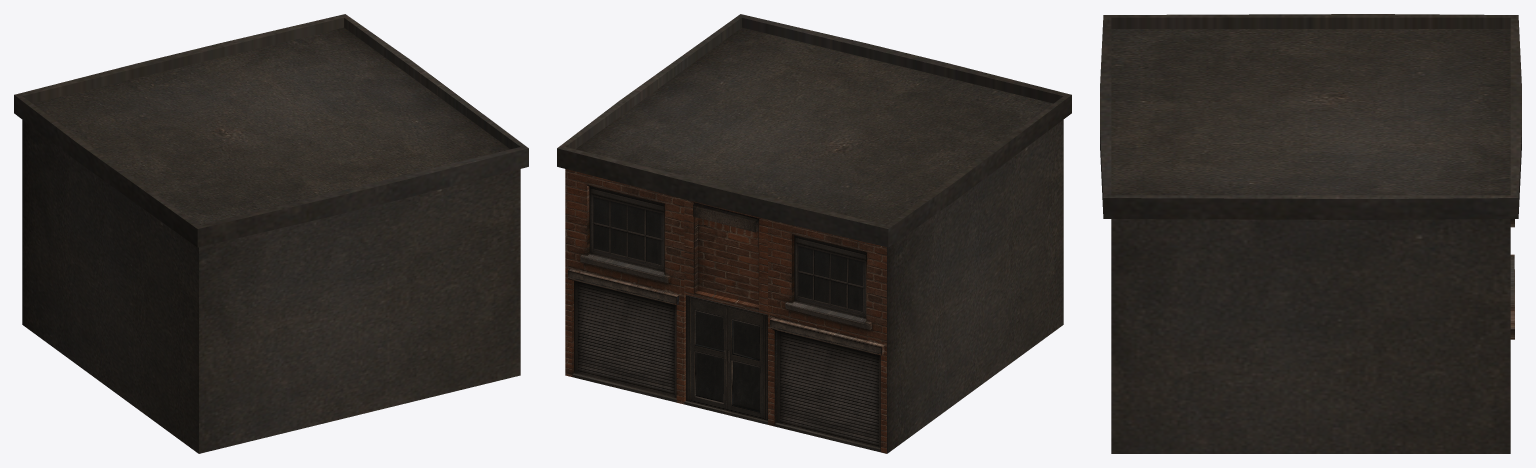
The model's file is lowpoly_urban_building.glb.
3 renders of one model, left to right at view 1: azimuth 30°, elevation 25°; view 2: azimuth 150°, elevation 25°; view 3: azimuth 270°, elevation 25°, orthographic. The views are drawn at different scales.
Visible parts, largest first — view 1: Building; view 2: Building; view 3: Building.
Part boxes in pixels (bbox=[...]): Building: bbox=[14, 14, 528, 453]; Building: bbox=[557, 14, 1071, 453]; Building: bbox=[1100, 14, 1521, 453].
Bounding box in the file's own units: 7.5 × 4.88 × 7.22.
1 material, 1 textured.
